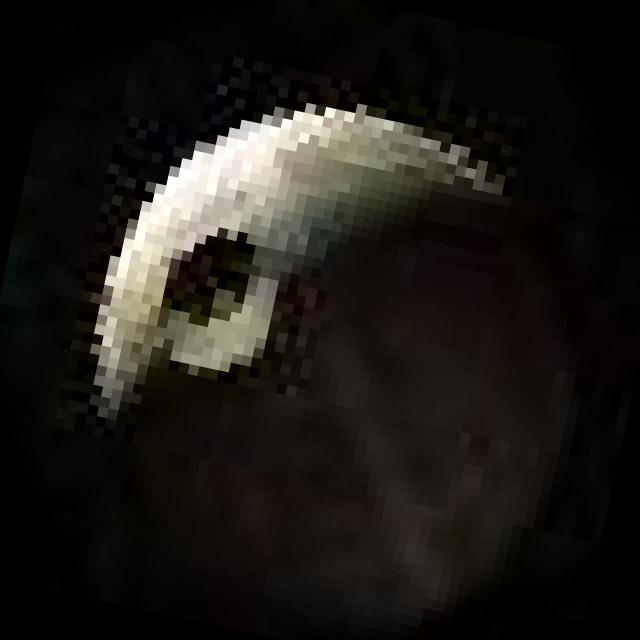Death Star: (36, 47, 616, 640)
